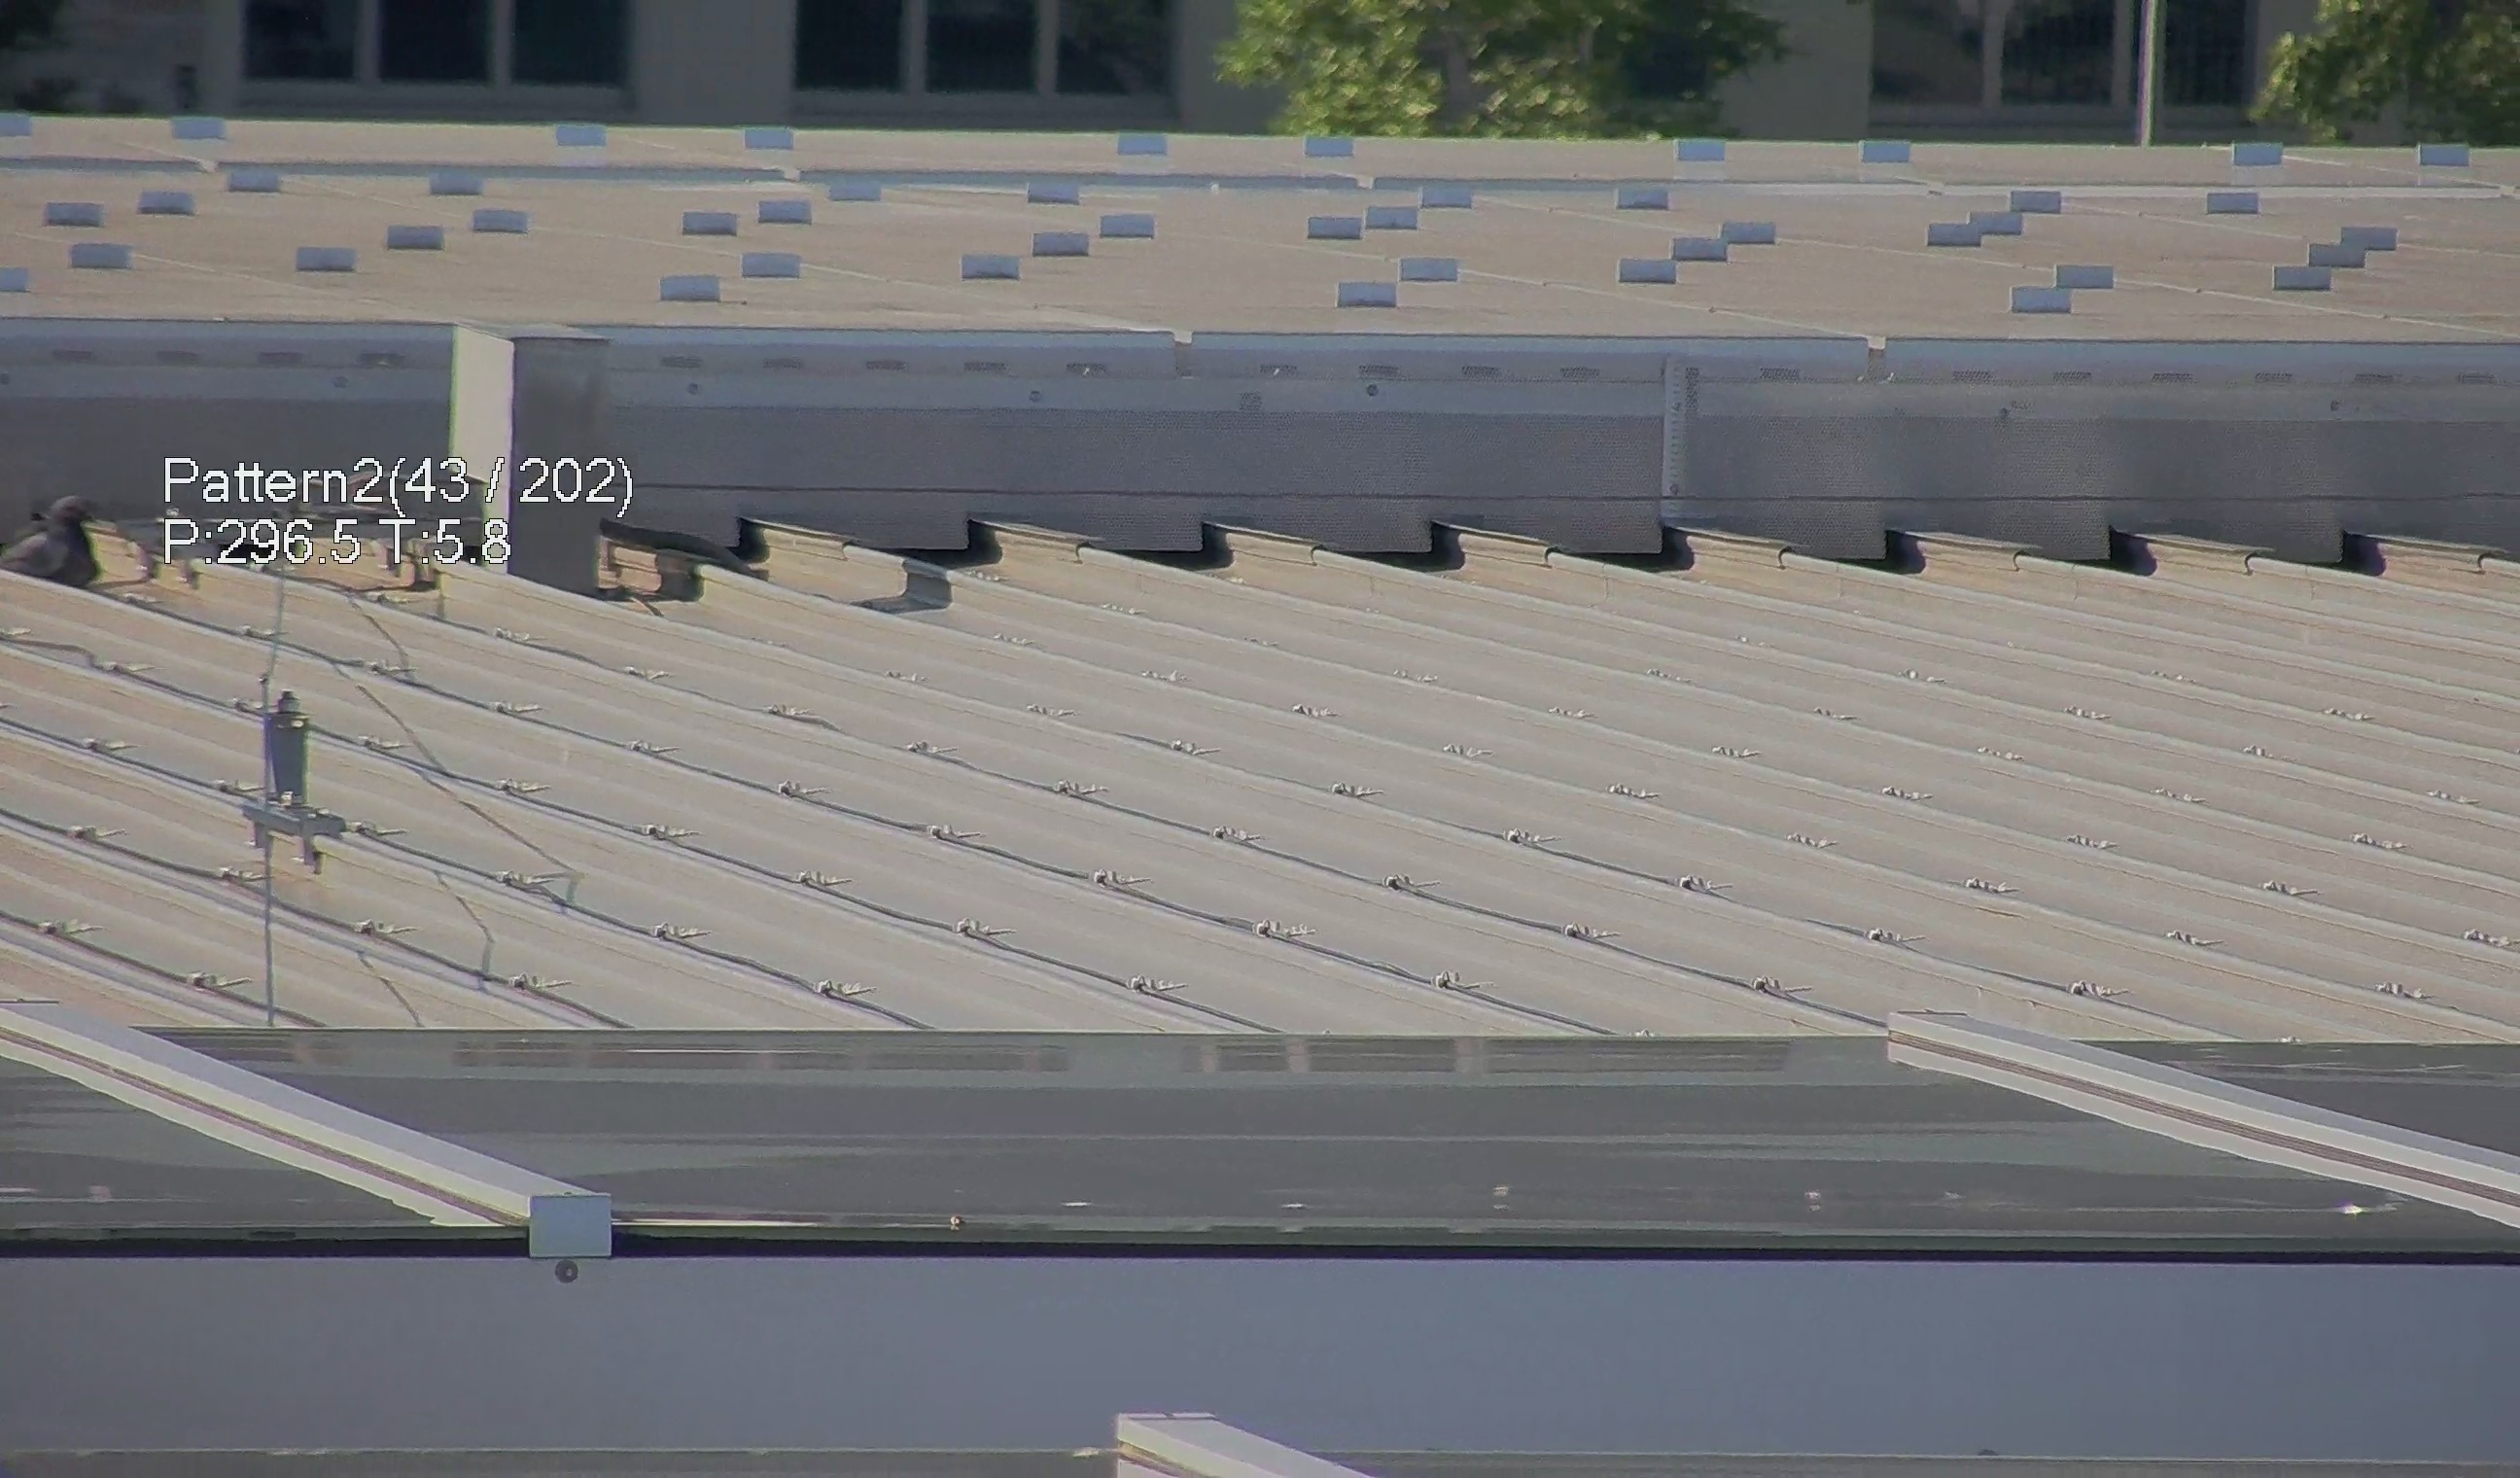Pigeon: (2, 489, 167, 588)
